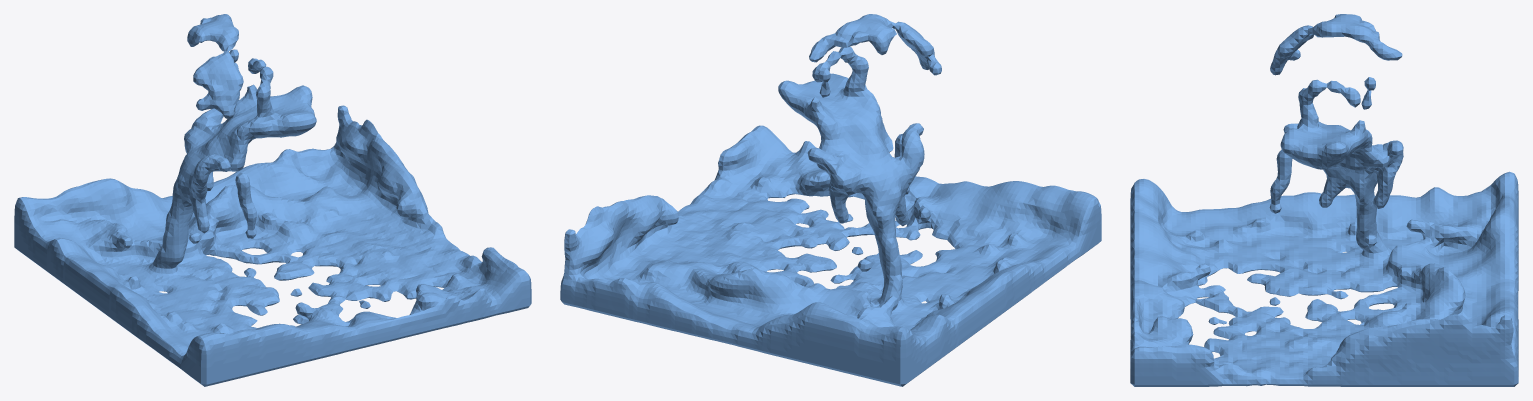
The model's file is water_0086.glb.
3 renders of one model, left to right at view 1: azimuth 30°, elevation 25°; view 2: azimuth 150°, elevation 25°; view 3: azimuth 270°, elevation 25°, orthographic. The views are drawn at different scales.
Visible parts, largest first — view 1: Water_0086; view 2: Water_0086; view 3: Water_0086.
Part boxes in pixels (<box>): Water_0086: <box>14,14,531,386</box>; Water_0086: <box>560,14,1101,386</box>; Water_0086: <box>1130,14,1518,386</box>.
Size of the model in its own units: 4.83 by 3.62 by 4.83.
